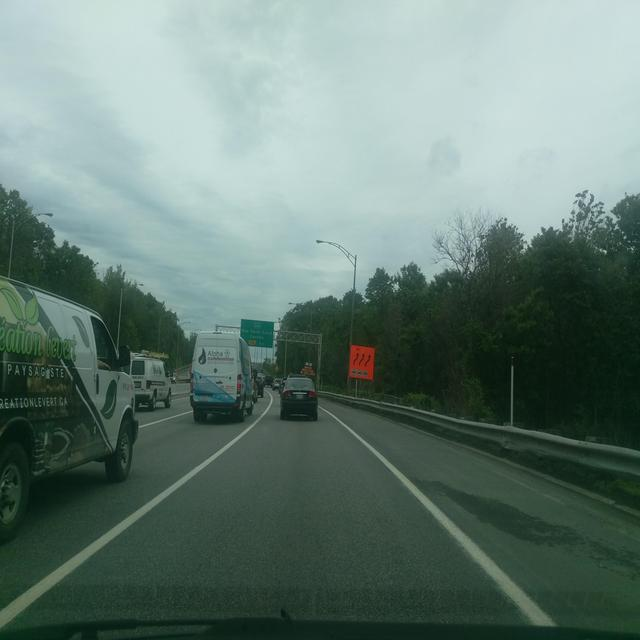Barrier: (171, 364, 189, 396)
Car: (0, 274, 178, 543), (189, 332, 318, 422)
Vegetation: (0, 182, 131, 345), (120, 286, 197, 370)
